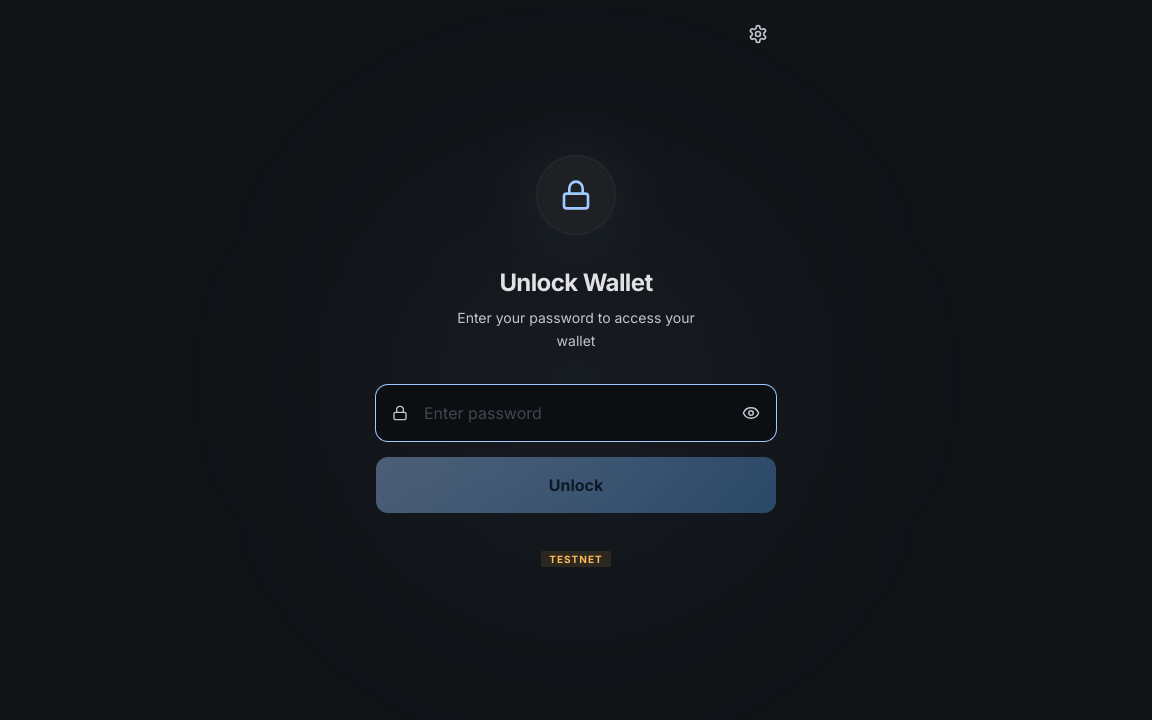
Test: UnlockModal › closes dropdown when clicking Delete Wallet and shows confirmation dialog
Click the button named "wallet options": x=758, y=34 [740,16,776,52]
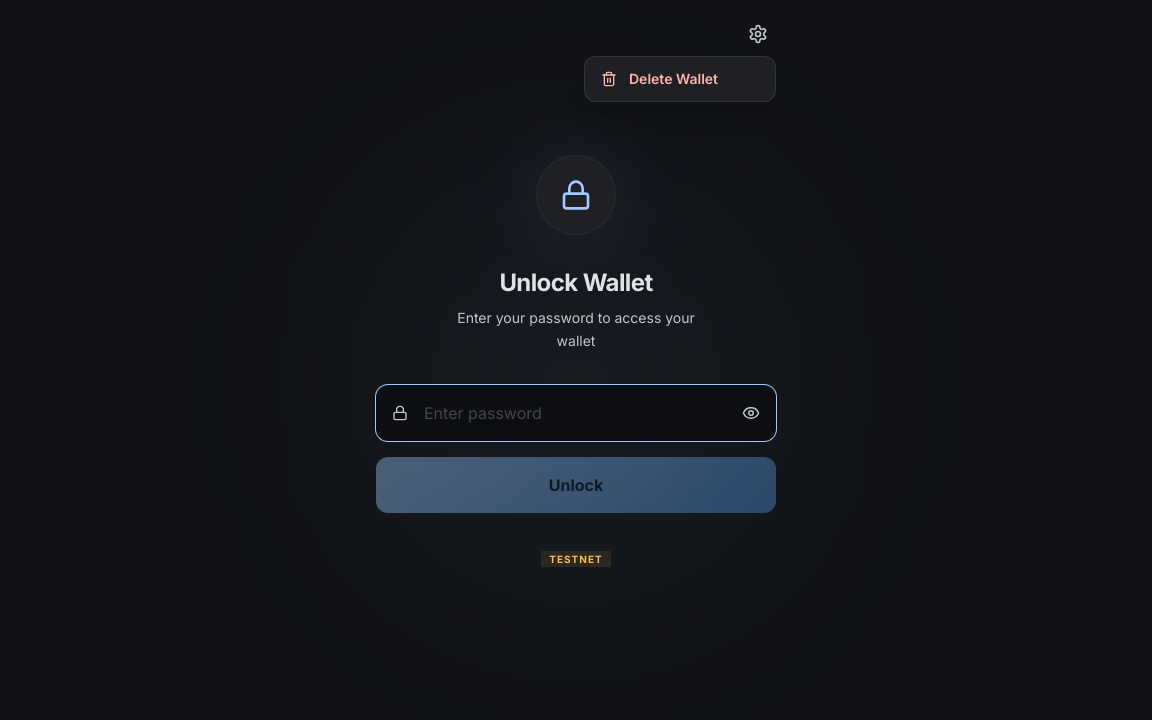
Click the button "Delete Wallet": x=680, y=79 [585,57,775,101]
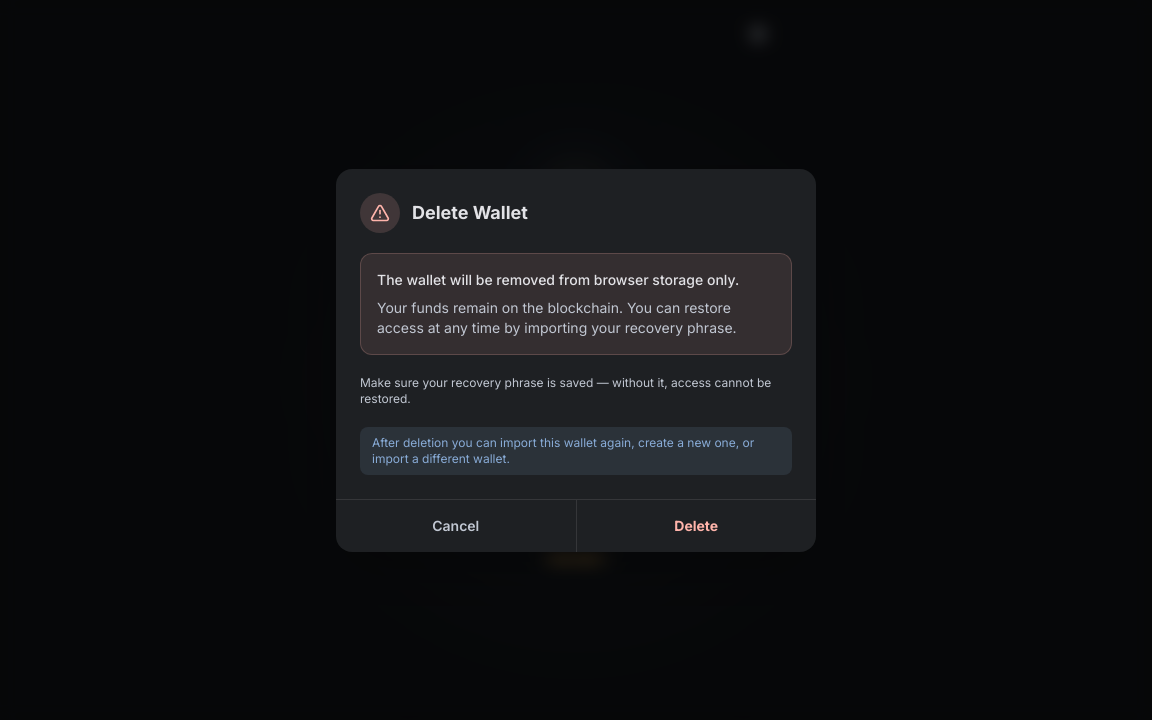
Now the text "The wallet will be removed from browser storage only." is shown, box [377,270,775,290]
Now the text "import this wallet again" is shown, box [372,434,754,466]
